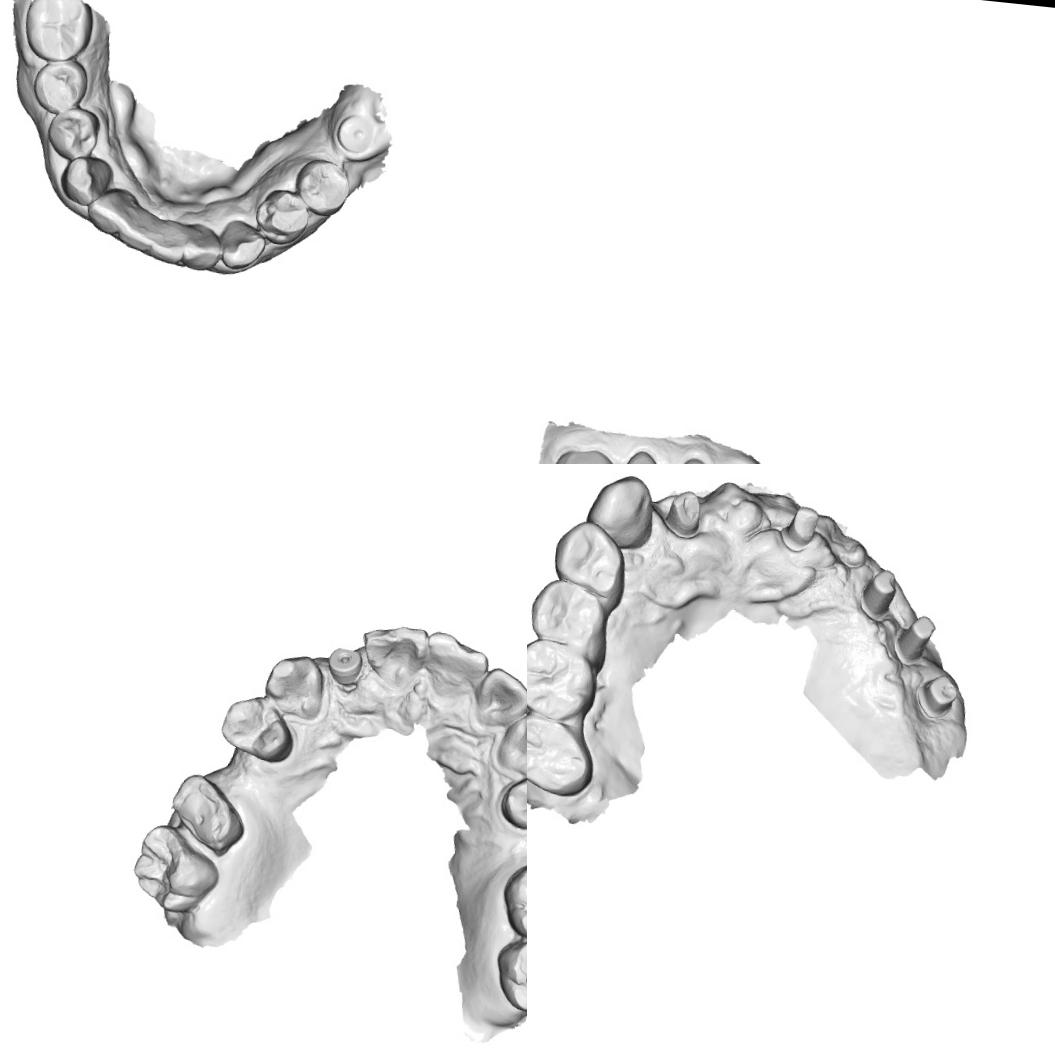abutment: (659, 482, 708, 545), (913, 669, 963, 722), (893, 610, 940, 666), (780, 499, 826, 554), (858, 564, 902, 621)
canine: (582, 470, 659, 554), (260, 650, 330, 724), (56, 150, 118, 212), (216, 215, 269, 274), (492, 705, 527, 778)
implant: (321, 640, 369, 692), (332, 109, 377, 158)
incisor: (356, 617, 431, 691), (418, 626, 490, 701), (472, 663, 527, 729), (176, 220, 229, 280), (82, 179, 133, 238), (145, 213, 190, 271), (114, 202, 161, 256)
molar: (126, 818, 222, 922), (161, 769, 253, 864), (527, 633, 604, 726), (527, 712, 600, 801), (22, 0, 93, 64), (495, 847, 527, 958), (489, 930, 527, 1021), (543, 443, 624, 464)
premolar: (546, 516, 634, 606), (527, 575, 612, 652), (214, 690, 300, 766), (247, 184, 314, 249), (291, 156, 356, 220), (41, 101, 106, 164), (28, 56, 92, 119), (494, 764, 527, 840), (615, 448, 672, 464)
